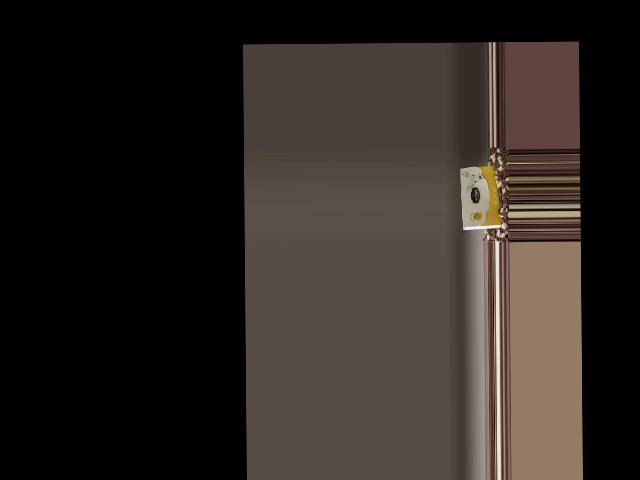chocolate: (458, 162, 503, 233)
